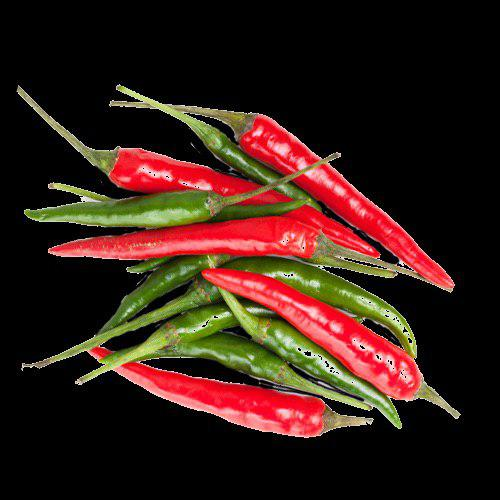lada hijau: (23, 182, 225, 234), (181, 337, 290, 389)
lada merah: (251, 120, 465, 291), (89, 374, 342, 459), (50, 213, 337, 272)
